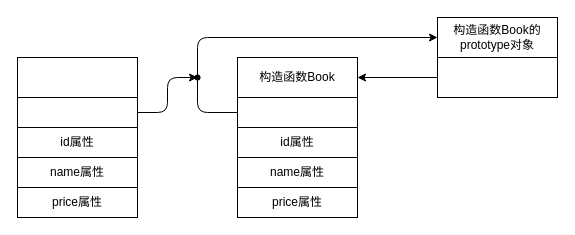
This 575x235 diagram has some shape labels left out. The box of each missing label's shape, as (x1, y1, x2, y2) in pixels:
__proto__: (16, 96, 138, 128)
constructor: (436, 56, 558, 98)
new出来的实例对象book: (16, 56, 138, 98)
prototype: (236, 96, 358, 128)
